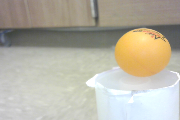PingPongBall: (115, 28, 171, 78)
